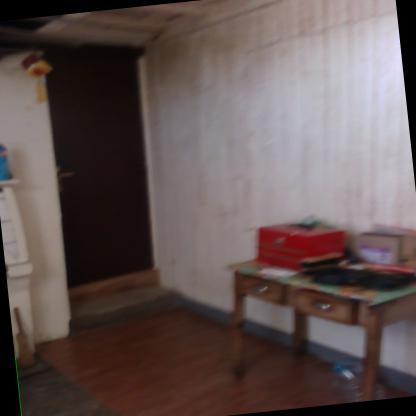closed: (27, 24, 173, 302)
